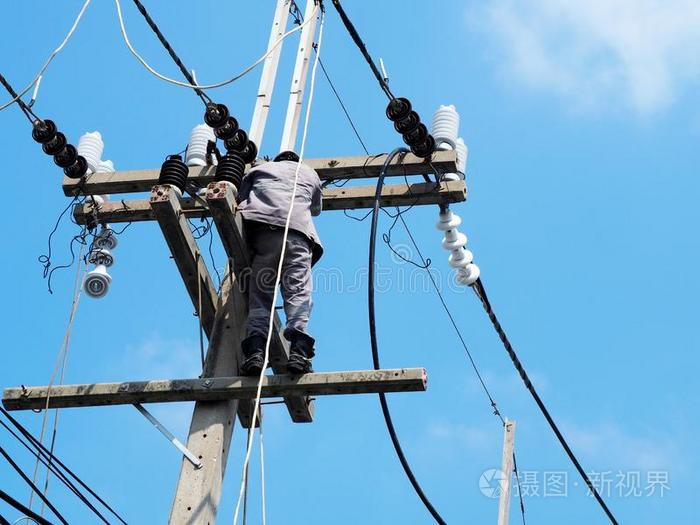insulator: (29, 119, 89, 179), (204, 105, 257, 163), (438, 213, 480, 285), (385, 97, 434, 158)
